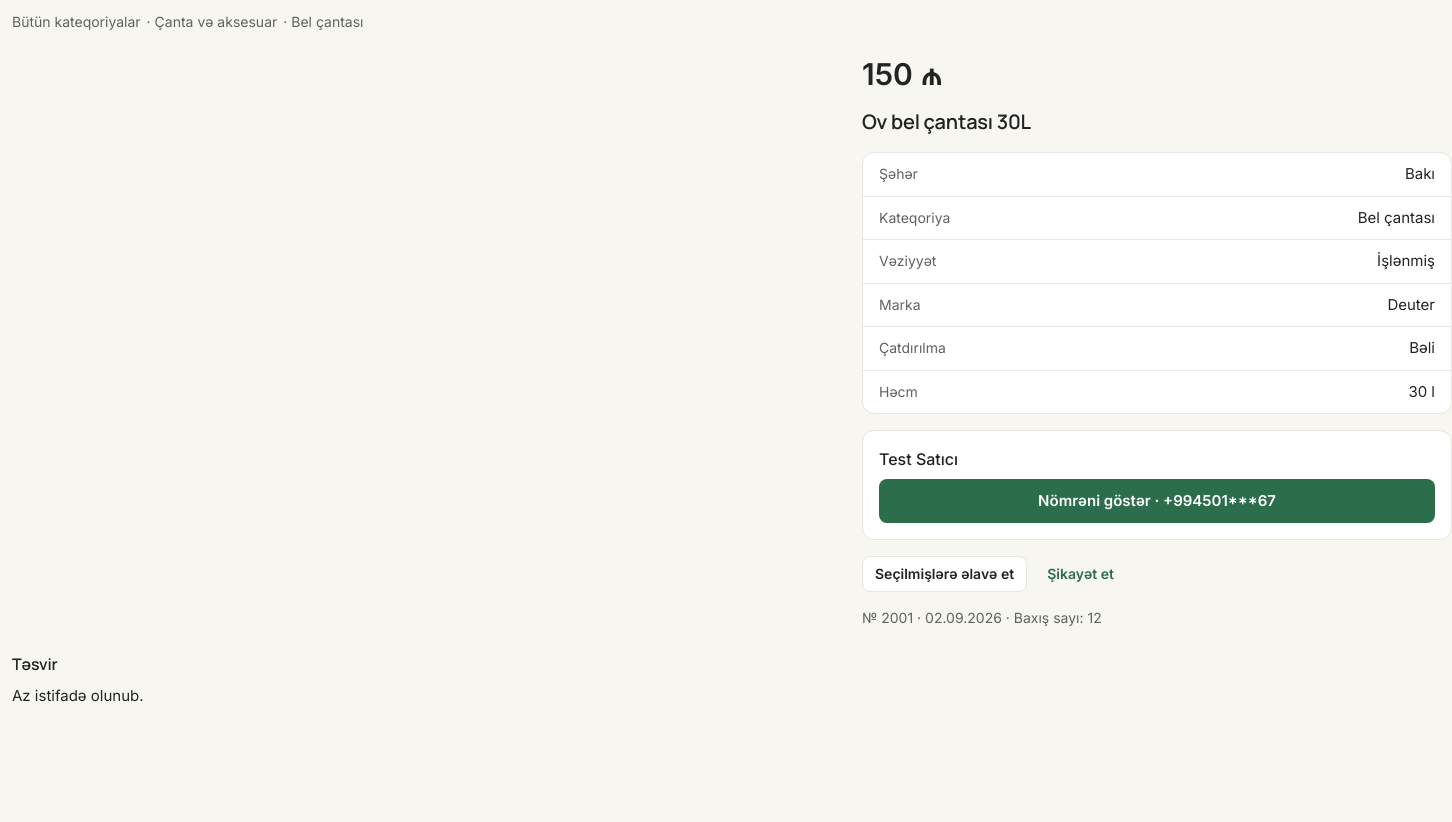
Test: ListingDetailPage › keeps the full phone number out of the page until it is asked for
Click the button "Nömrəni göstər · +994501***67": (1157, 501) [879,479,1435,523]
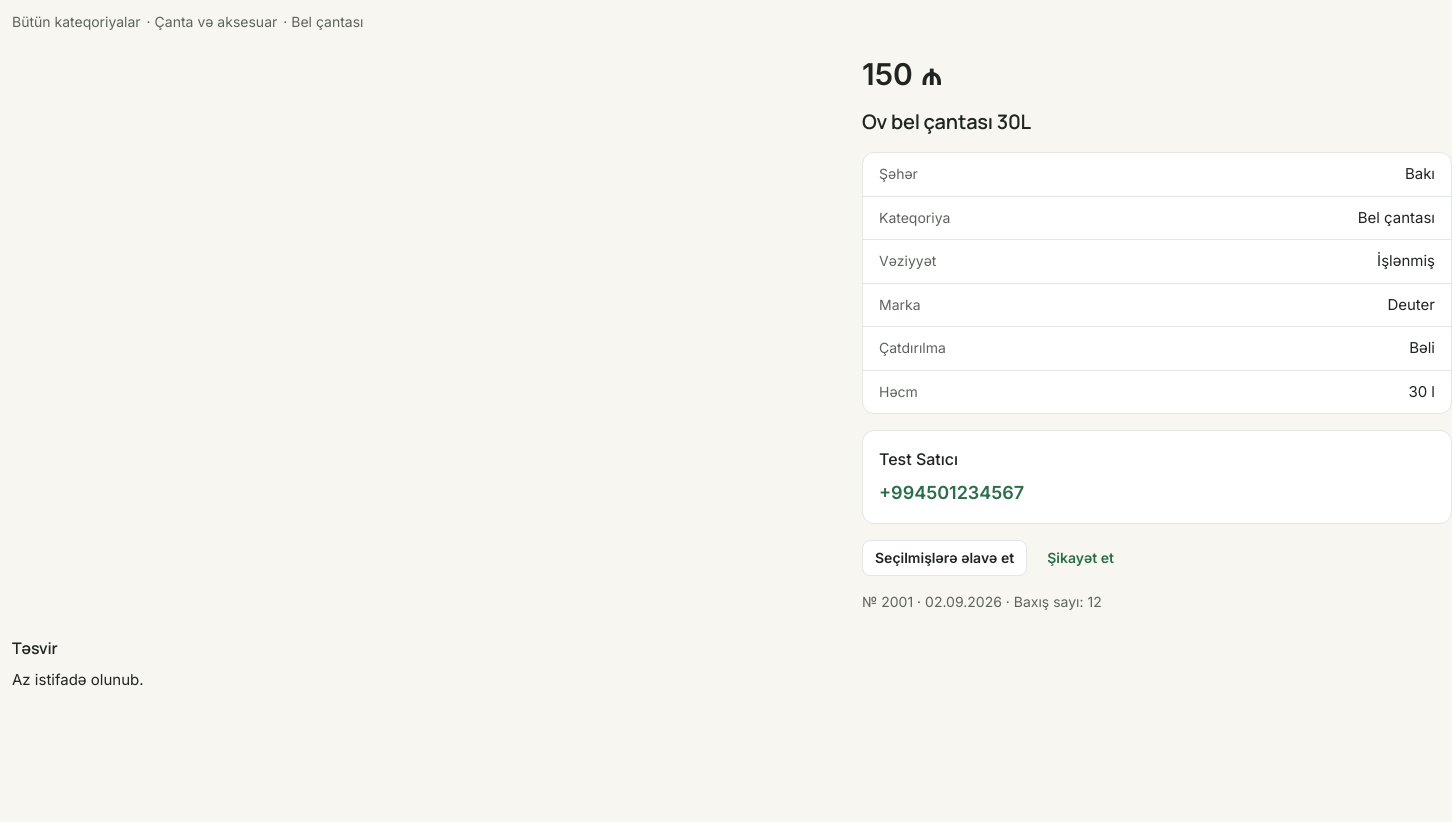
Expected: the link "+994501234567" is shown, [879,482,1024,503]
